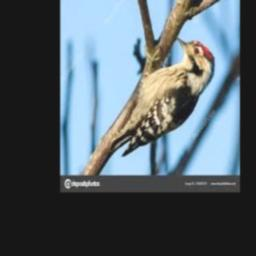Woodpecker: (109, 37, 215, 157)
